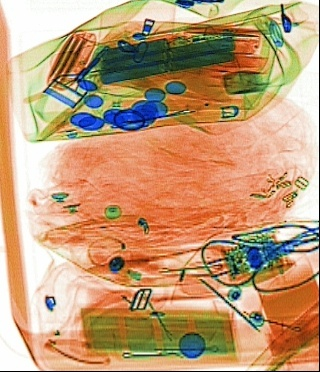powerbank: (94, 21, 236, 84)
